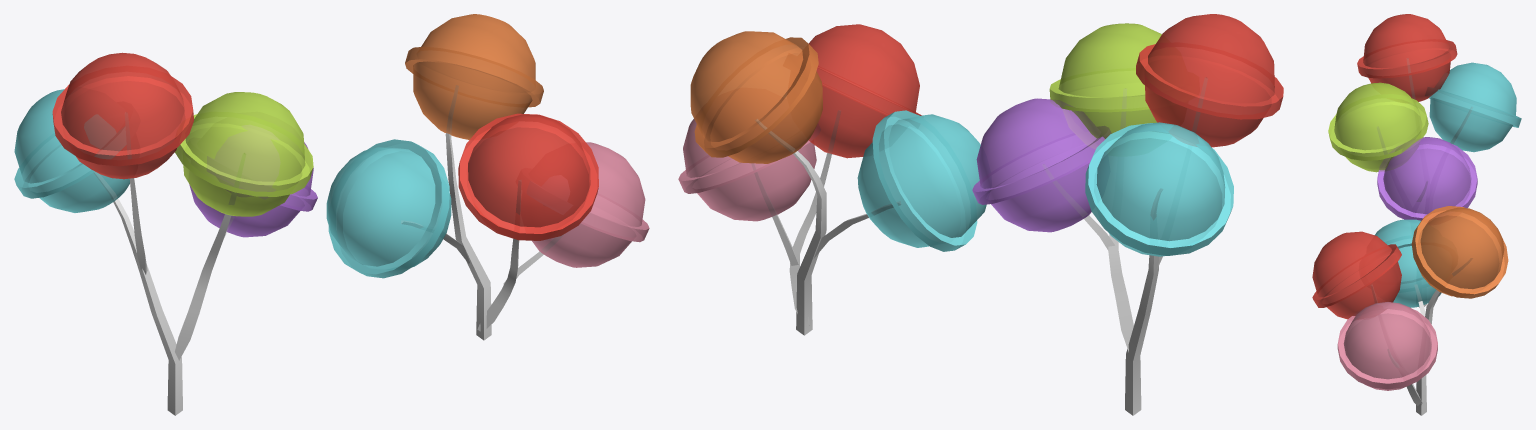
Rendered from lollipop-tree.glb.
3 views of the same model, side by side, from view 1: azimuth 30°, elevation 25°; view 2: azimuth 150°, elevation 25°; view 3: azimuth 270°, elevation 25° (orthographic). The views are drawn at different scales.
Parts seen in each view (by area): view 1: tree-2, tree; view 2: tree, tree-2; view 3: tree, tree-2.
Boxes of the visible parts, x1,y1,x2,y2 form: tree-2: (326, 14, 649, 340); tree: (14, 52, 317, 415); tree: (972, 14, 1283, 415); tree-2: (678, 24, 986, 335); tree: (1328, 14, 1521, 307); tree-2: (1312, 206, 1508, 415).
Bounding box in the file's own units: 4.98 × 3.18 × 2.26.
